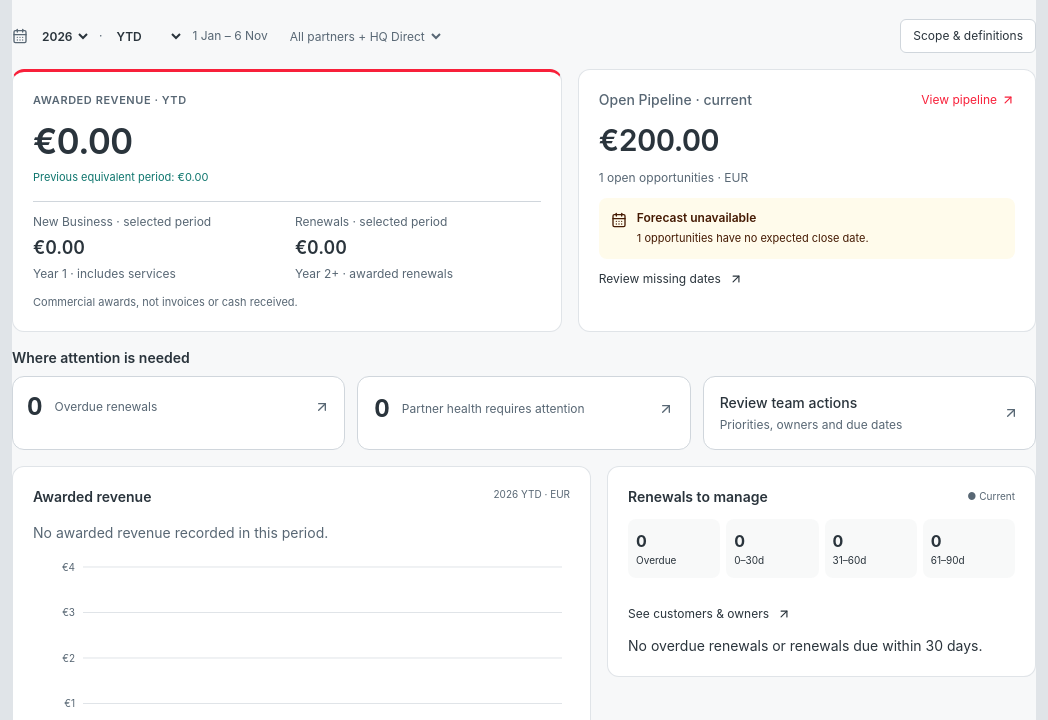
Test: Dashboard role, error and filter behavior › opens detailed health and actions from the cockpit shortcuts
Click the link "0 Partner health requires attention".
click(524, 408)  # box [374,392,674,424]
(page scrolled)
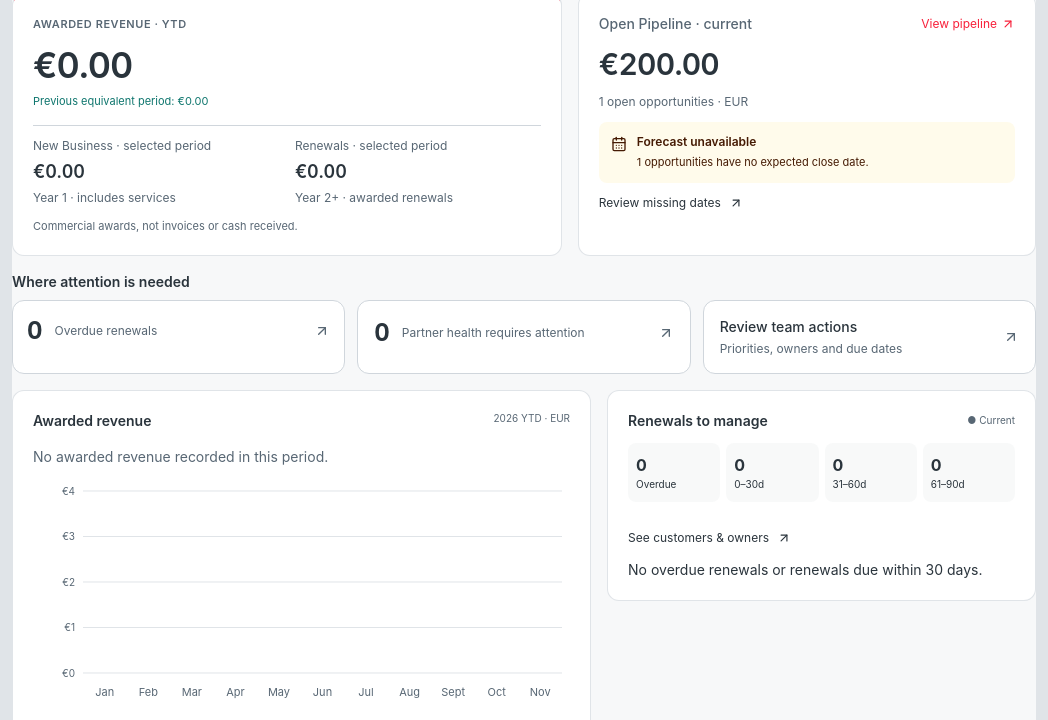
Click the link "Review team actions".
click(788, 326)  # box [703,300,1036,374]
(page scrolled)
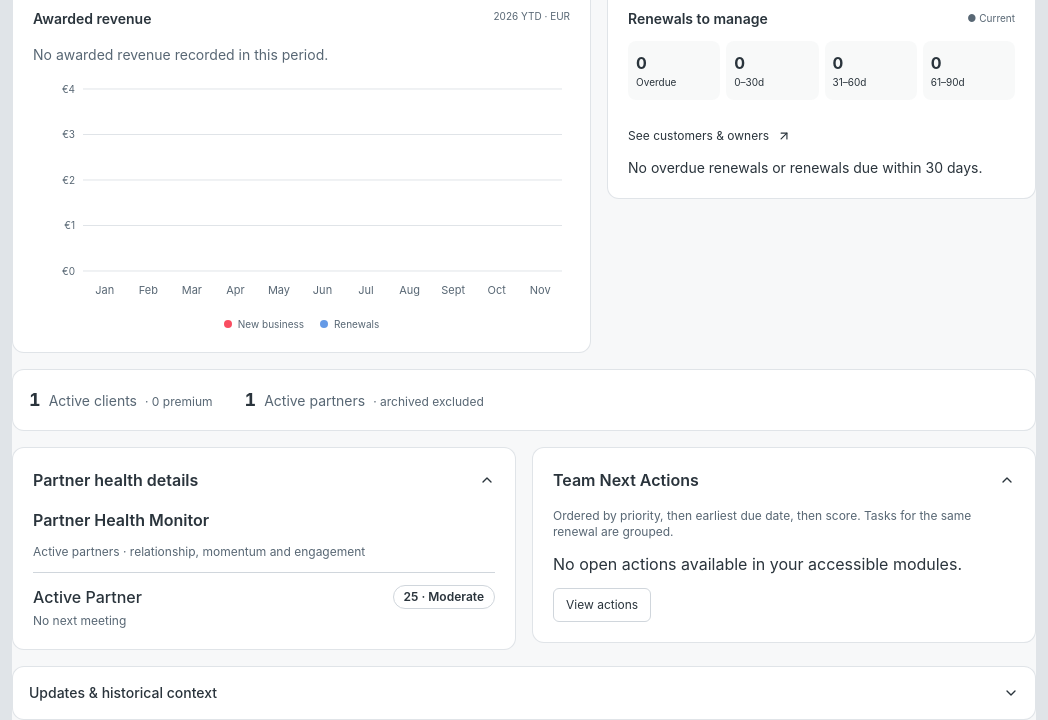
Check: the text "Partner health details" has attribute open, box [12,446,516,650]
Check: the text "Team Next Actions" has attribute open, box [532,446,1036,642]
